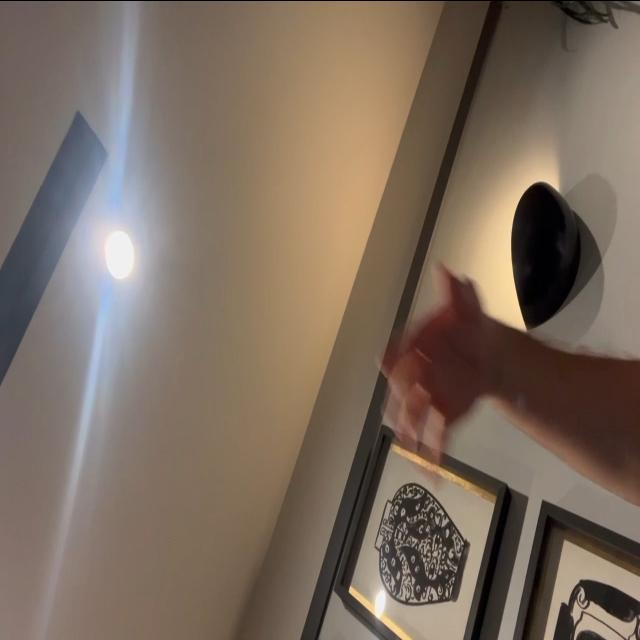Paper: (381, 260, 488, 484)
